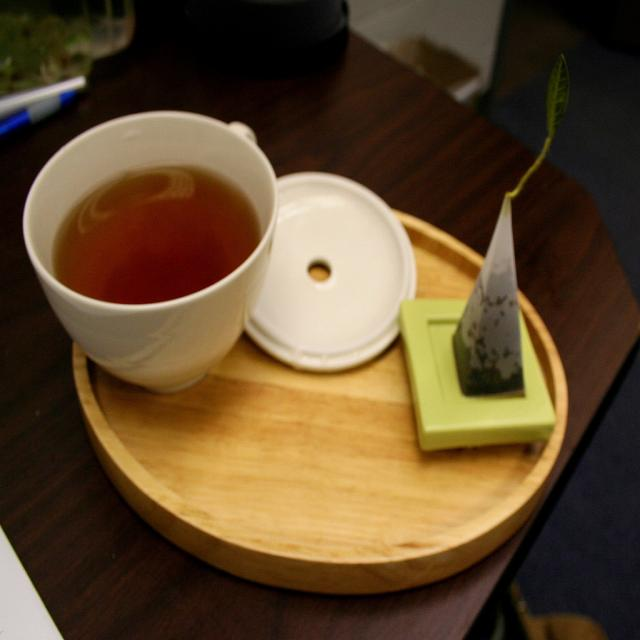Tea: (54, 171, 254, 308)
